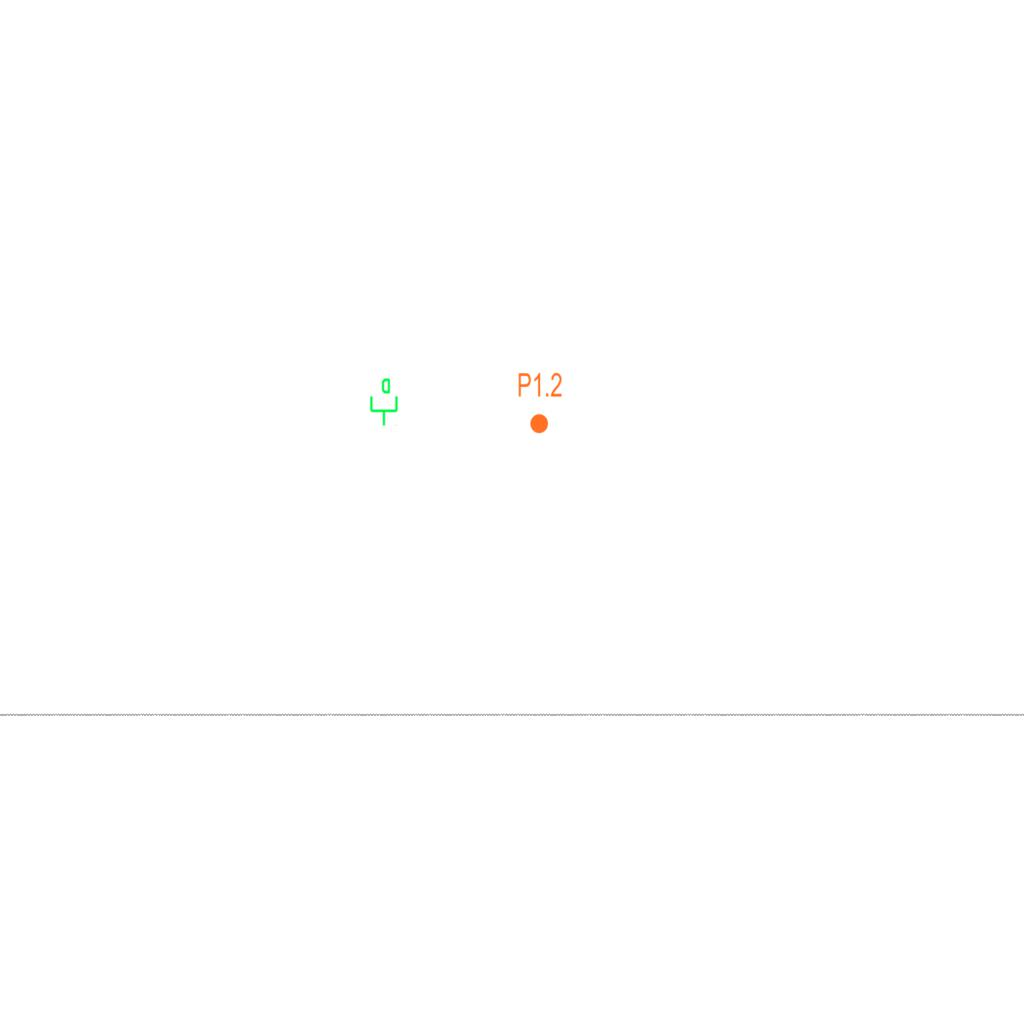Datenanschluss_einfach: (366, 377, 400, 427)
Downlight_LED_Einbauleuchten_Flur: (517, 371, 563, 435)
